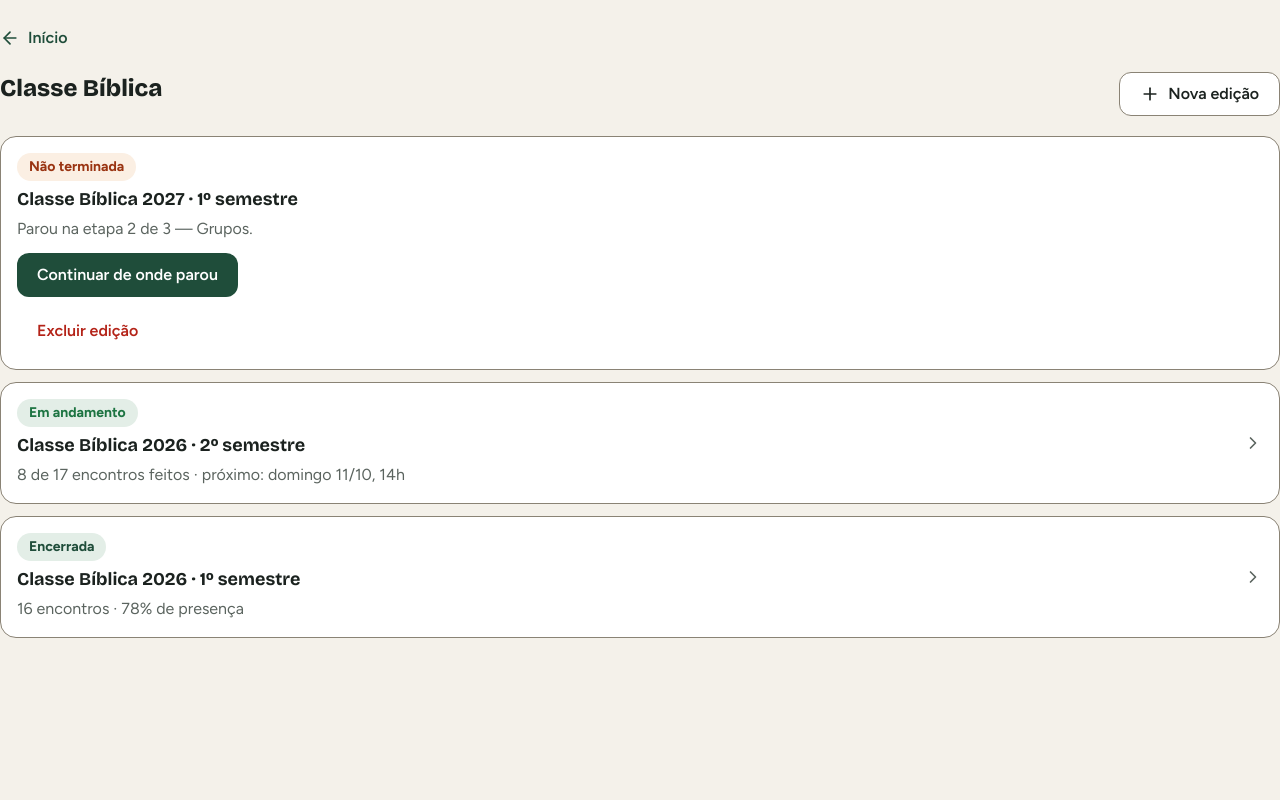
Lista de edições › a não terminada oferece excluir: sem encontros, o texto diz que não há nada lançado; excluir volta à lista com o aviso
Click the button "Excluir edição" at (88, 331), box [17,309,158,353]
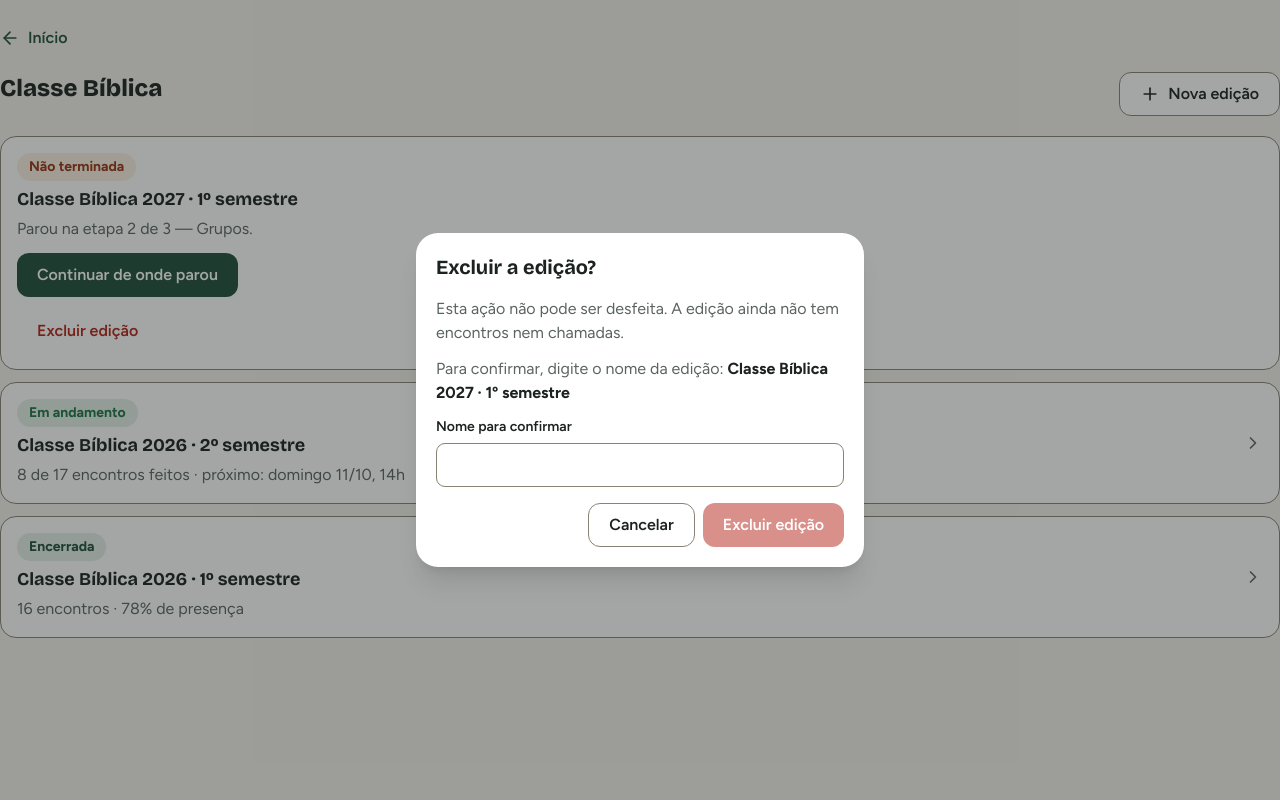
Now the text "Esta ação não pode ser desfeita. A edição ainda não tem encontros nem chamadas." is shown, box [436,297,844,345]
Type "classe bíblica 2027 · 1º semestre" into the field labelled "Nome para confirmar" at (640, 465), box [436,443,844,487]
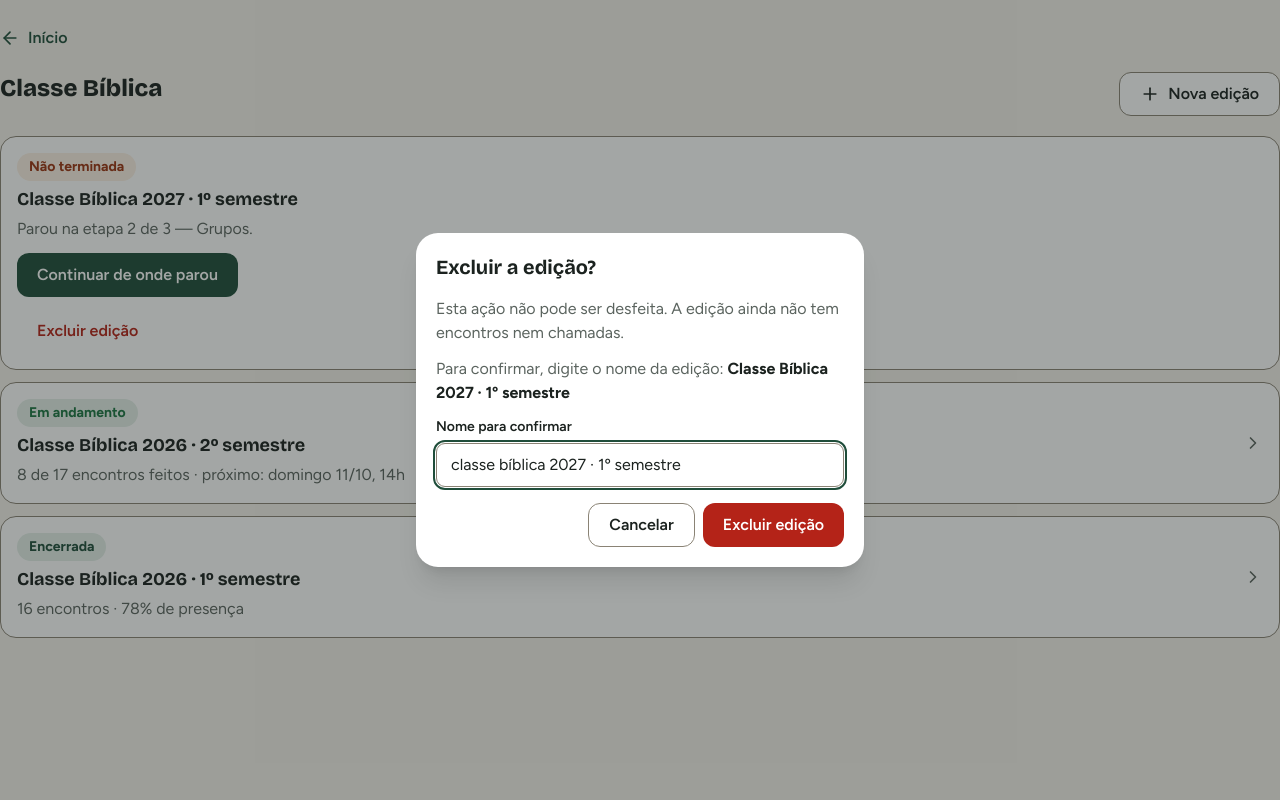
Click the button "Excluir edição" below "Nome para confirmar" at (773, 525), box [703,503,844,547]
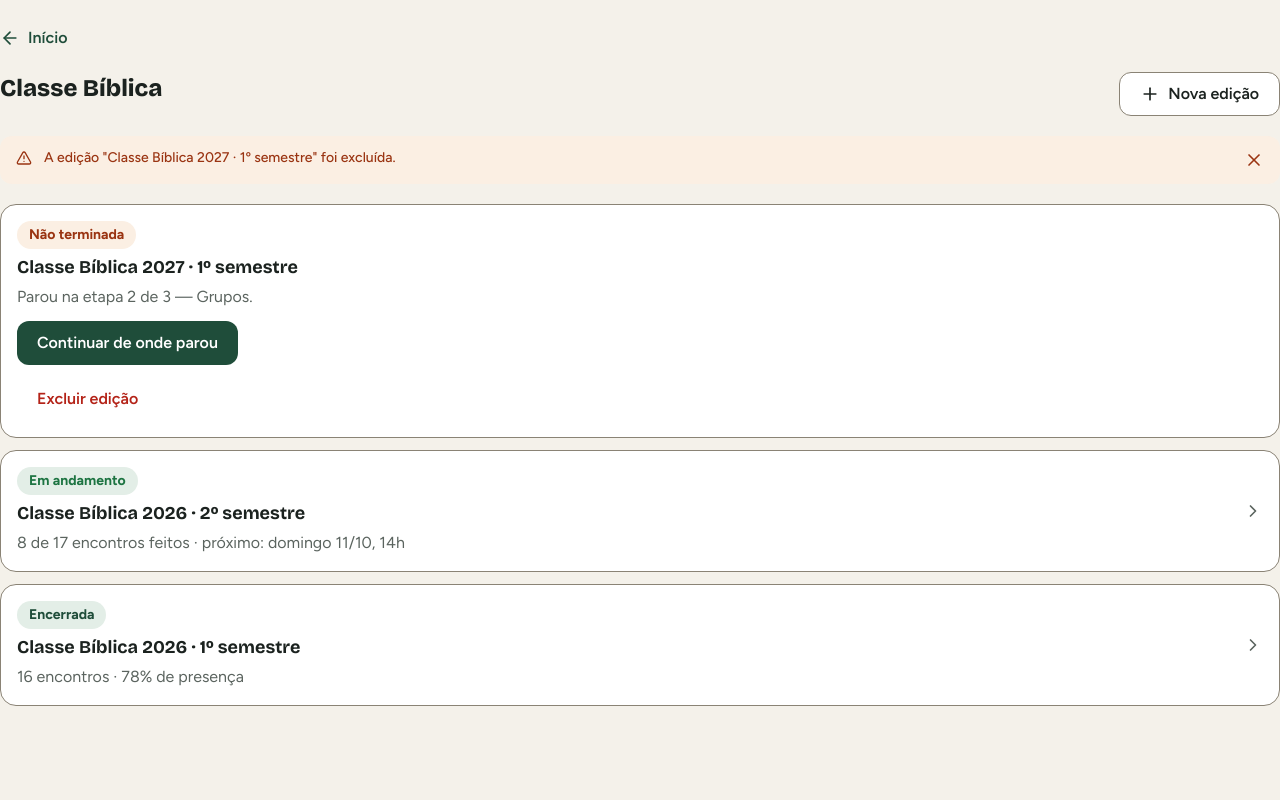
Now the text "A edição \"Classe Bíblica 2027 · 1º semestre\" foi excluída." is shown, box [44,149,396,166]
